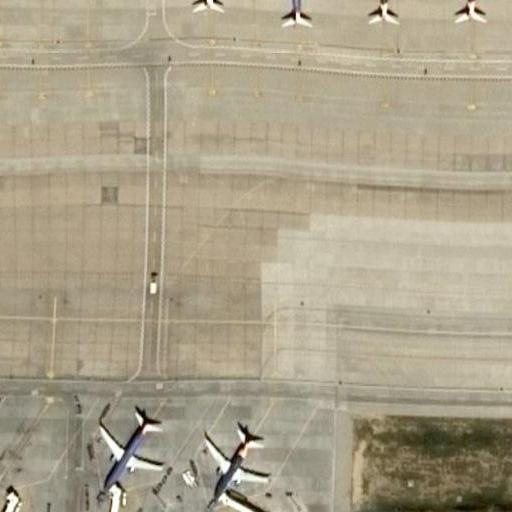Aircraft: (90, 411, 167, 497), (200, 421, 275, 507), (267, 0, 325, 42), (358, 0, 406, 41), (443, 0, 503, 31)
